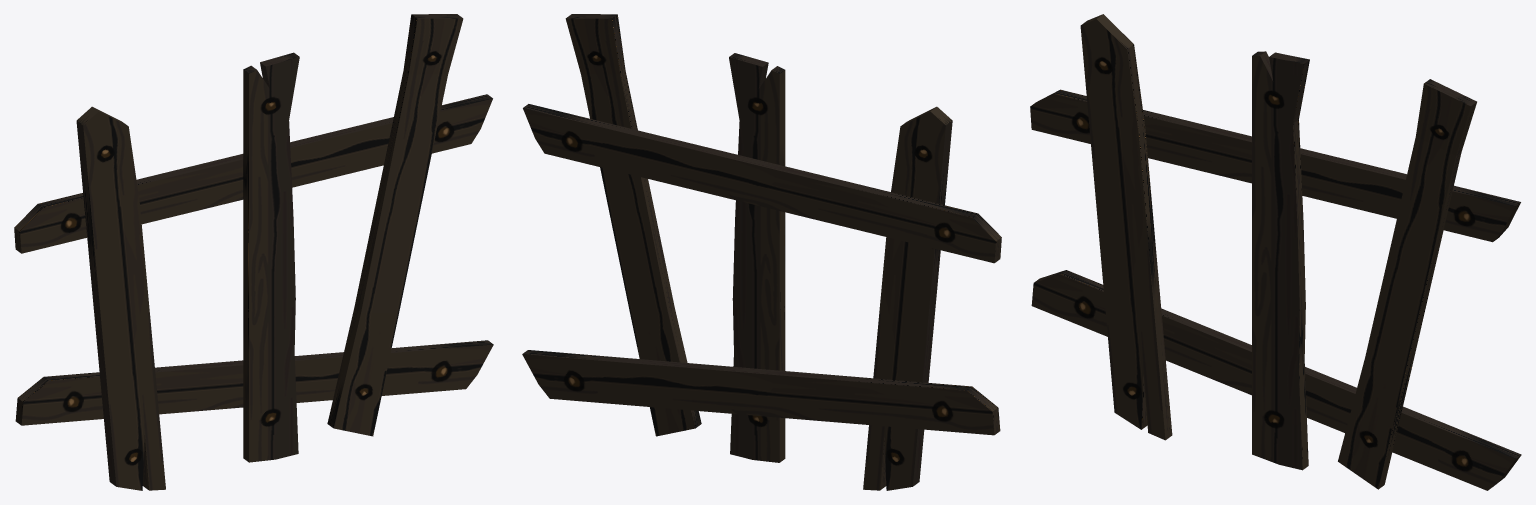
Rendered from HangRaoA.fbx.
3 renders of one model, left to right at view 1: azimuth 30°, elevation 25°; view 2: azimuth 150°, elevation 25°; view 3: azimuth 330°, elevation 25°, orthographic. The views are drawn at different scales.
Visible parts, largest first — view 1: HangRaoA; view 2: HangRaoA; view 3: HangRaoA.
Boxes of the visible parts, bbox=[...] form: HangRaoA: bbox=[14, 14, 493, 490]; HangRaoA: bbox=[522, 14, 1001, 490]; HangRaoA: bbox=[1030, 14, 1521, 490].
Bounding box in the file's own units: 1.72 × 0.0814 × 1.42.
1 material, 1 textured.
